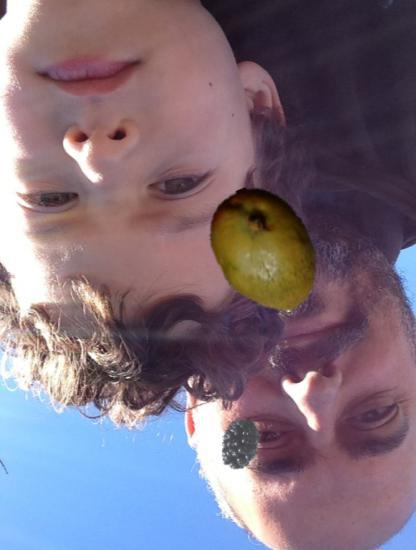Mulberry: (214, 419, 266, 471)
Papaya: (199, 185, 331, 317)
